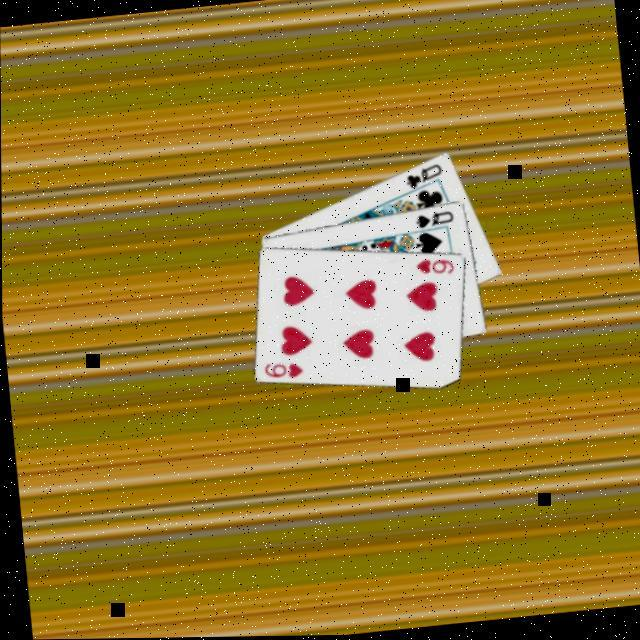6H: (412, 252, 458, 280), (261, 355, 307, 382)
QC: (402, 159, 446, 192)
QS: (412, 206, 458, 231)
